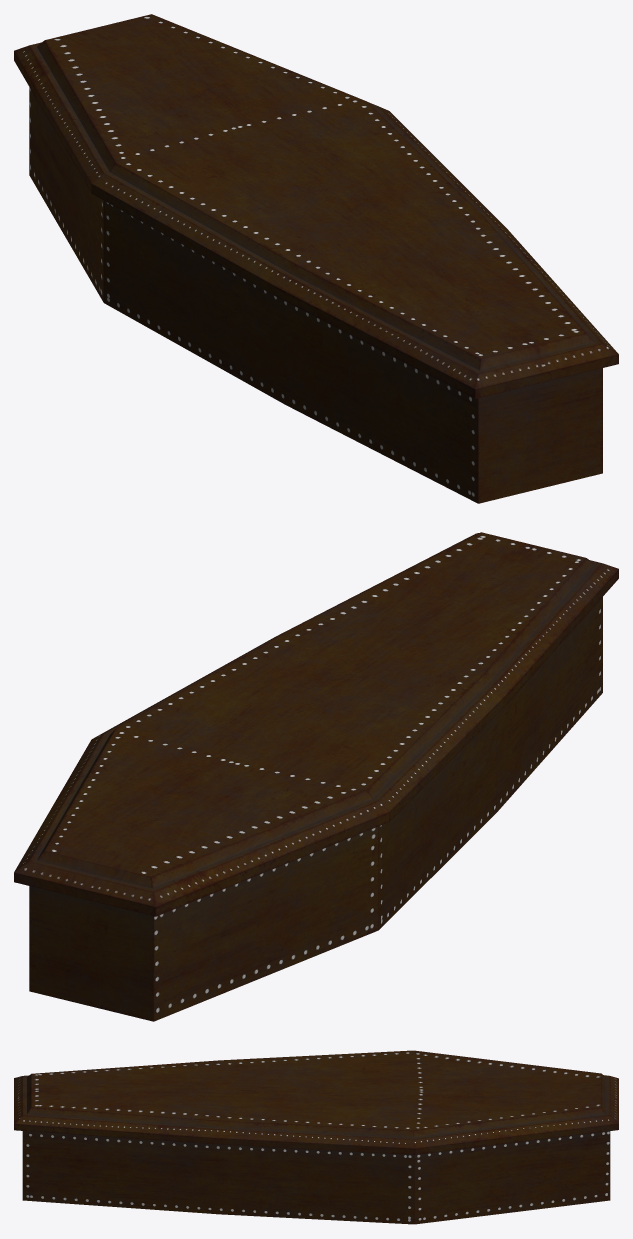
The model's file is coffin.glb.
3 renders of one model, top to bottom at view 1: azimuth 30°, elevation 25°; view 2: azimuth 150°, elevation 25°; view 3: azimuth 270°, elevation 25°, orthographic. The views are drawn at different scales.
Visible parts, largest first — view 1: Object_2; view 2: Object_2; view 3: Object_2.
Part boxes in pixels (bbox=[...]): Object_2: bbox=[14, 14, 618, 503]; Object_2: bbox=[14, 532, 618, 1021]; Object_2: bbox=[14, 1050, 618, 1224].
Size of the model in its own units: 5.19 by 2.29 by 13.95.
1 material, 1 textured.
